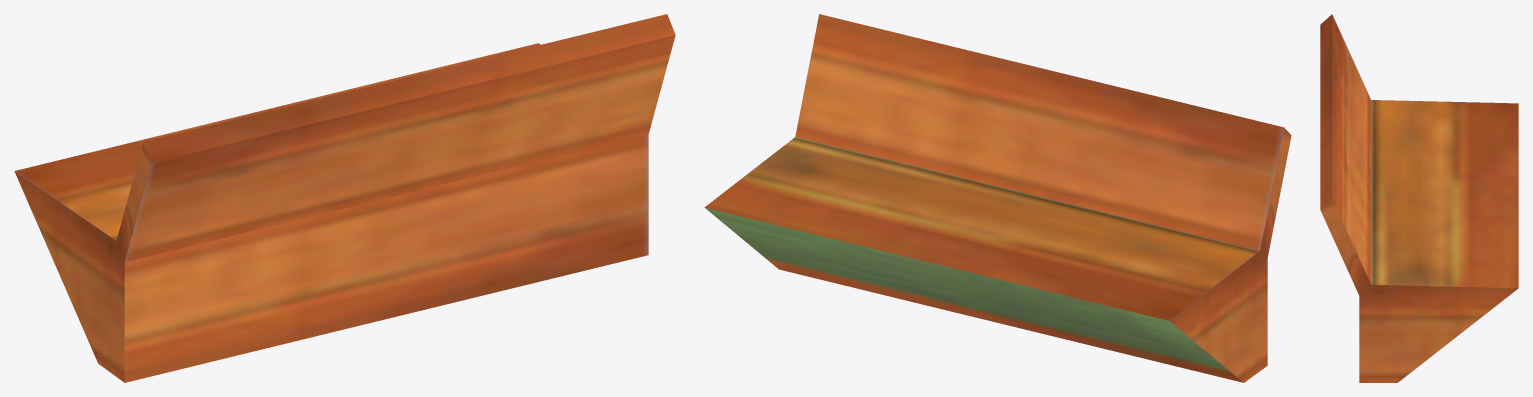
Rendered from bench01.glb.
3 renders of one model, left to right at view 1: azimuth 30°, elevation 25°; view 2: azimuth 150°, elevation 25°; view 3: azimuth 270°, elevation 25°, orthographic. The views are drawn at different scales.
Parts seen in each view (by area): view 1: bench01; view 2: bench01; view 3: bench01.
Part boxes in pixels (x1,y1,x2,y2): bench01: [14, 14, 675, 382]; bench01: [704, 14, 1291, 382]; bench01: [1320, 14, 1518, 382].
Size of the model in its own units: 289 by 134 by 131.
Materials: 1 (1 with a texture image).
